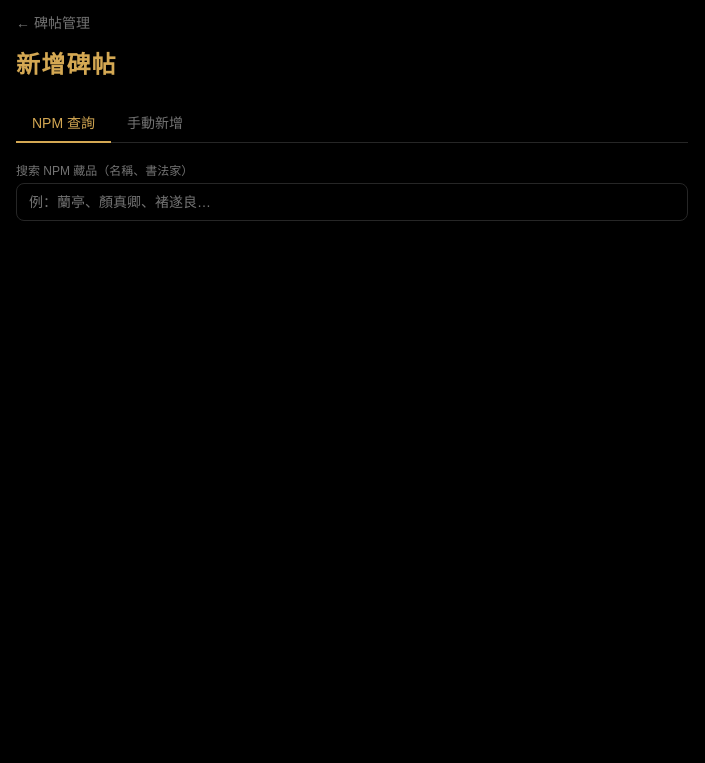
Test: creation mode (id=new) — initial render › shows metadata fields when manual tab is selected
The image size is (705, 763).
Click the button "手動新增". click: (155, 124)
box: [111,105,199,143]
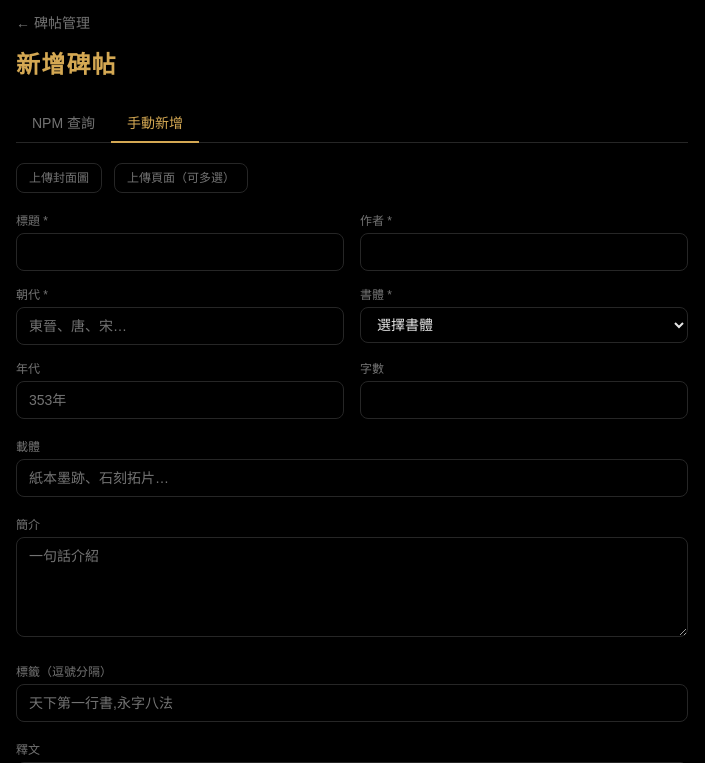
Expected: the text "標題 *" is shown, [16,214,48,228]
Expected: the text "作者 *" is shown, [360,214,392,228]
Expected: the text "朝代 *" is shown, [16,288,48,302]
